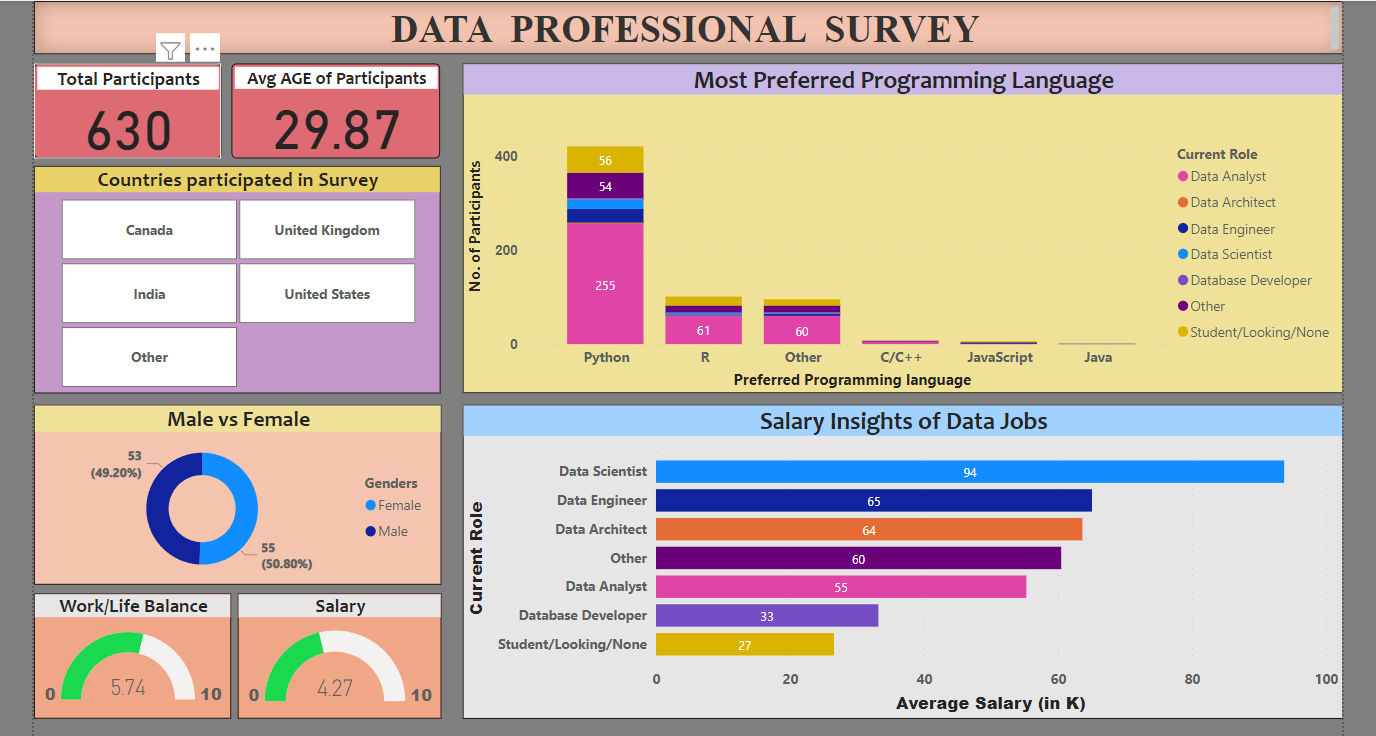

What the dashboard file says about the page in this screenshot:
{"tool":"powerbi","page":{"name":"Page 1","canvas":[1280,720],"ordinal":0},"visuals":[{"type":"textbox","box":[0,0,1280.3,52.1],"z":0},{"type":"card","title":"Total Participants","fields":{"Values":["Count(Data Professional Survey.Unique ID)"]},"box":[0,61.1,183.4,92.9],"z":1000},{"type":"card","title":"Avg AGE of Participants","fields":{"Values":["Avg(Data Professional Survey.Q10 - Current Age)"]},"box":[193.1,61.1,204.1,92.9],"z":2000},{"type":"barChart","title":"Salary Insights of Data Jobs","fields":{"Category":["Data Professional Survey.Q1 - Which Title Best Fits your Current Role?"],"Y":["Avg(Data Professional Survey.Average Salary)"],"Series":["Data Professional Survey.Q1 - Which Title Best Fits your Current Role?"]},"box":[419.3,394.8,860.6,306.8],"z":3000},{"type":"columnChart","title":"Most Preferred Programming Language","fields":{"Category":["Data Professional Survey.Q5 - Favorite Programming Language?"],"Y":["Count(Data Professional Survey.Unique ID)"],"Series":["Data Professional Survey.Q1 - Which Title Best Fits your Current Role?"]},"box":[419.3,61.1,860.6,322.7],"z":4000},{"type":"gauge","title":"Work/Life Balance","fields":{"Y":["Avg(Data Professional Survey.Q6.2 - How Happy are you in your Current Position with the following? (Work/Life Balance))"],"MinValue":["Min(Data Professional Survey.Q6.2 - How Happy are you in your Current Position with the following? (Work/Life Balance))"],"MaxValue":["Max(Data Professional Survey.Q6.2 - How Happy are you in your Current Position with the following? (Work/Life Balance))1"]},"box":[0,579.4,193.1,122.2],"z":6000},{"type":"gauge","title":"Salary","fields":{"Y":["Avg(Data Professional Survey.Q6.1 - How Happy are you in your Current Position with the following? (Salary))"],"MinValue":["Min(Data Professional Survey.Q6.1 - How Happy are you in your Current Position with the following? (Salary))"],"MaxValue":["Max(Data Professional Survey.Q6.1 - How Happy are you in your Current Position with the following? (Salary))1"]},"box":[199.3,579.4,199.3,122.2],"z":7000},{"type":"donutChart","title":"Male vs Female","fields":{"Category":["Data Professional Survey.Q9 - Male/Female?"],"Y":["Avg(Data Professional Survey.Average Salary)"]},"box":[0,394.8,398.5,176],"z":7001},{"type":"slicer","title":"Countries participated in Survey","fields":{"Values":["Data Professional Survey.Q11 - Which Country do you live in?.1"]},"box":[0,161.4,397.3,222.5],"z":7002}]}

Visuals, with their boxes in screenshot pixels (x1, y1, x2, y2):
textbox: {"x1": 54, "y1": 4, "x2": 1342, "y2": 56}
"Total Participants" card: {"x1": 54, "y1": 65, "x2": 238, "y2": 159}
"Avg AGE of Participants" card: {"x1": 248, "y1": 65, "x2": 453, "y2": 159}
"Salary Insights of Data Jobs" barChart: {"x1": 476, "y1": 401, "x2": 1342, "y2": 709}
"Most Preferred Programming Language" columnChart: {"x1": 476, "y1": 65, "x2": 1342, "y2": 390}
"Work/Life Balance" gauge: {"x1": 54, "y1": 587, "x2": 248, "y2": 709}
"Salary" gauge: {"x1": 254, "y1": 587, "x2": 455, "y2": 709}
"Male vs Female" donutChart: {"x1": 54, "y1": 401, "x2": 455, "y2": 578}
"Countries participated in Survey" slicer: {"x1": 54, "y1": 166, "x2": 453, "y2": 390}
